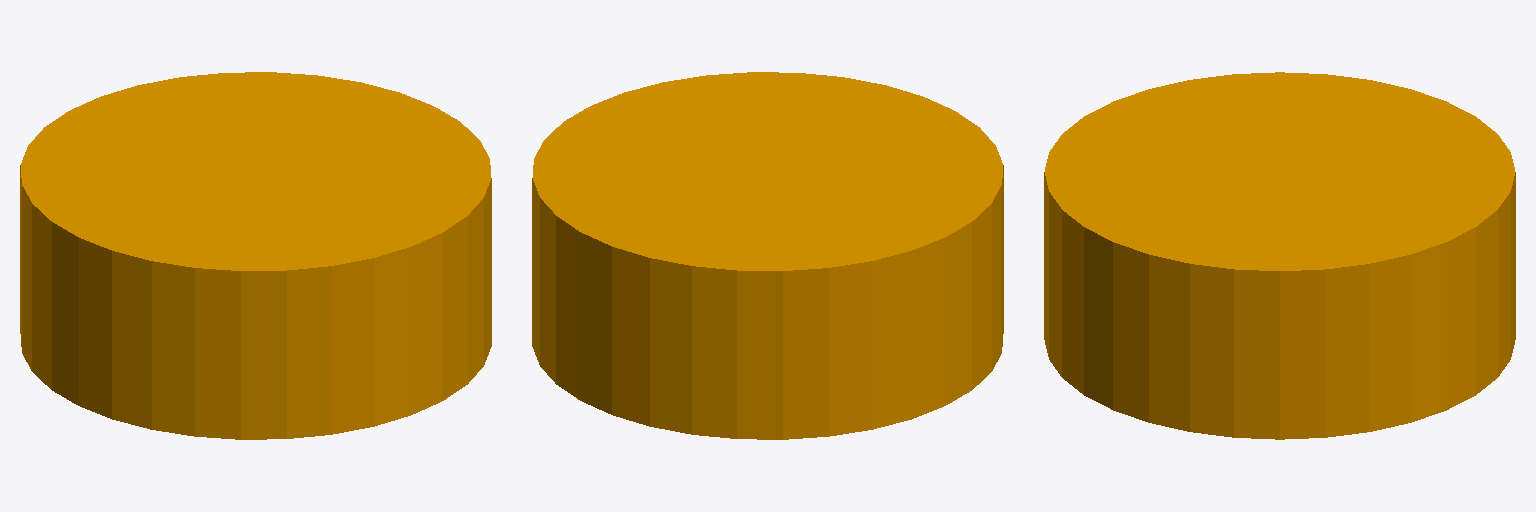
robot.urdf — 2v2_mod_cylinder_medium:
<?xml version="1.0" ?>
<robot name="2v2_mod_cylinder_medium">

    <link name="2v2_mod_cylinder_medium">
        <visual>
            <origin rpy="1.5707963267948966 0 0" xyz="0 0 0"/>
            <geometry>
                <mesh filename="obj_files/2v2_mod_cylinder_medium.obj" scale="1 1 1"/>
            </geometry>
        </visual>
        <collision>
            <geometry>
                <mesh filename="obj_files/2v2_mod_cylinder_medium_collision.obj" scale="1 1 1"/>
            </geometry>
        </collision>
    </link>

</robot>

--- Facts derived from the render (not from the file) ---
3 views of the same robot in one strip: view 1: azimuth 30°, elevation 25°; view 2: azimuth 150°, elevation 25°; view 3: azimuth 270°, elevation 25° (orthographic).
Robot: 2v2_mod_cylinder_medium — 1 links, 0 joints (none); root link 2v2_mod_cylinder_medium; default pose: all joints at 0.
Visible links, largest first — view 1: 2v2_mod_cylinder_medium; view 2: 2v2_mod_cylinder_medium; view 3: 2v2_mod_cylinder_medium.
Link boxes in pixels (left/top/right/bottom): 2v2_mod_cylinder_medium: left=20, top=72, right=491, bottom=439; 2v2_mod_cylinder_medium: left=532, top=72, right=1003, bottom=439; 2v2_mod_cylinder_medium: left=1044, top=72, right=1515, bottom=439.
Size in the robot's own frame: 0.2435 by 0.2435 by 0.096 metres.
Meshes: 1 distinct files referenced, 1 mesh visuals loaded (1 OBJ).